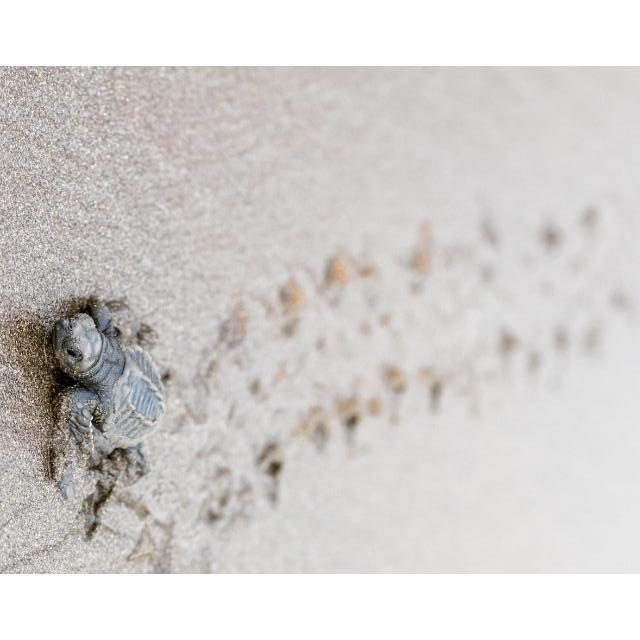turtle: (50, 299, 167, 491)
